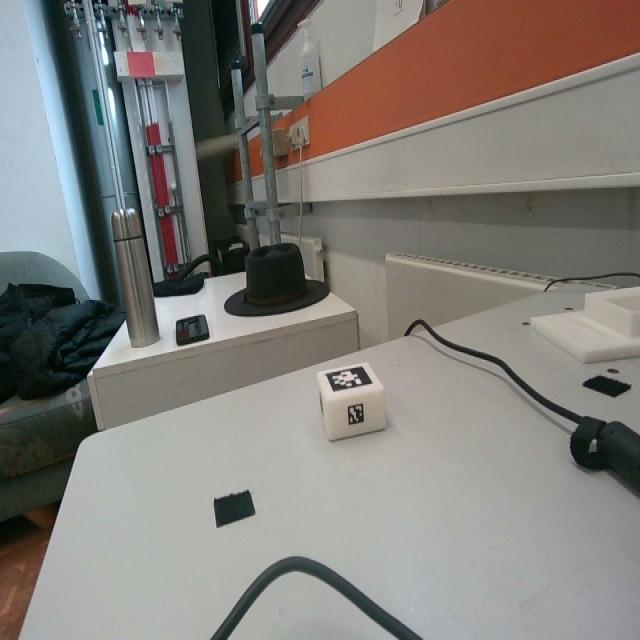Cube: (316, 359, 385, 441)
